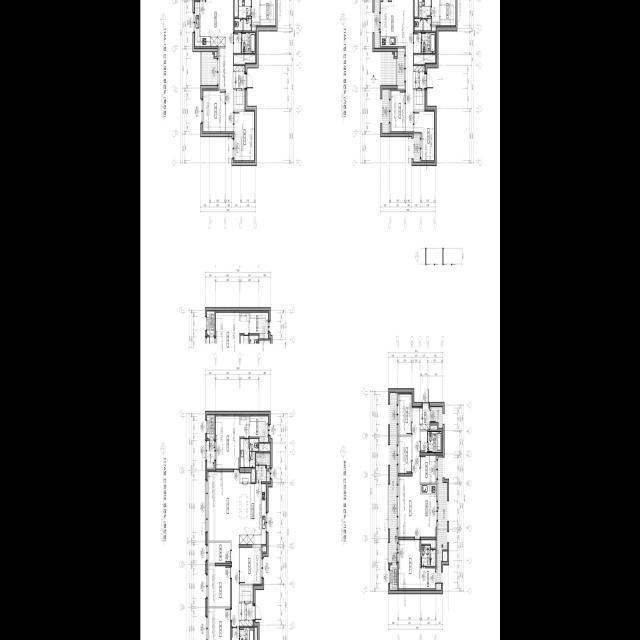background: (140, 0, 500, 640)
space_balconi: (436, 457, 447, 590), (389, 393, 397, 563), (381, 52, 396, 85), (201, 52, 216, 85), (256, 453, 269, 482), (382, 89, 389, 133), (430, 407, 442, 428), (397, 52, 404, 86), (207, 441, 214, 469), (413, 136, 420, 162)
space_bedroom: (215, 415, 249, 469), (398, 540, 420, 589), (414, 111, 434, 162), (234, 112, 254, 162), (202, 91, 225, 133), (207, 566, 230, 607), (239, 547, 261, 584), (207, 608, 230, 640), (390, 91, 405, 133), (398, 394, 411, 435), (398, 437, 411, 473)
space_dressroom: (249, 415, 268, 442), (260, 0, 275, 27), (440, 0, 455, 27), (420, 568, 435, 589)
space_front: (239, 603, 252, 626), (413, 66, 425, 89), (233, 66, 244, 89), (419, 408, 429, 430)
space_kitchen: (239, 484, 266, 545), (195, 2, 225, 47), (380, 2, 405, 46), (419, 484, 436, 537)
space_living_room: (207, 472, 239, 626), (206, 0, 233, 133), (391, 0, 413, 133), (398, 408, 419, 537)
space_other: (207, 543, 230, 563), (420, 456, 436, 483), (218, 48, 225, 89), (414, 90, 425, 110), (239, 586, 252, 602), (234, 90, 244, 110), (413, 55, 435, 64), (234, 55, 255, 64), (420, 432, 427, 452), (413, 33, 420, 53), (234, 33, 240, 53), (421, 540, 435, 548), (231, 628, 239, 640), (240, 473, 250, 482), (259, 444, 270, 451), (414, 0, 418, 17), (251, 469, 255, 482), (254, 627, 257, 640), (443, 552, 447, 561), (430, 426, 437, 430), (262, 546, 266, 553), (251, 27, 256, 31), (431, 27, 436, 31), (395, 52, 396, 56), (215, 52, 216, 56)
space_outdoor_room: (390, 565, 397, 590), (207, 415, 214, 439)
space_toilet: (234, 0, 251, 30), (240, 439, 258, 467), (414, 0, 430, 31), (421, 546, 435, 566), (241, 33, 255, 53), (421, 33, 435, 53), (428, 432, 441, 452), (240, 628, 253, 640)
